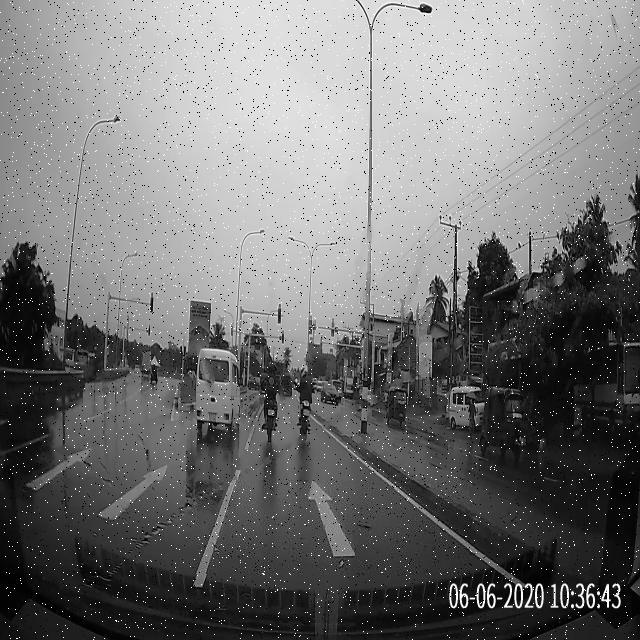forward: (193, 481, 471, 574)
